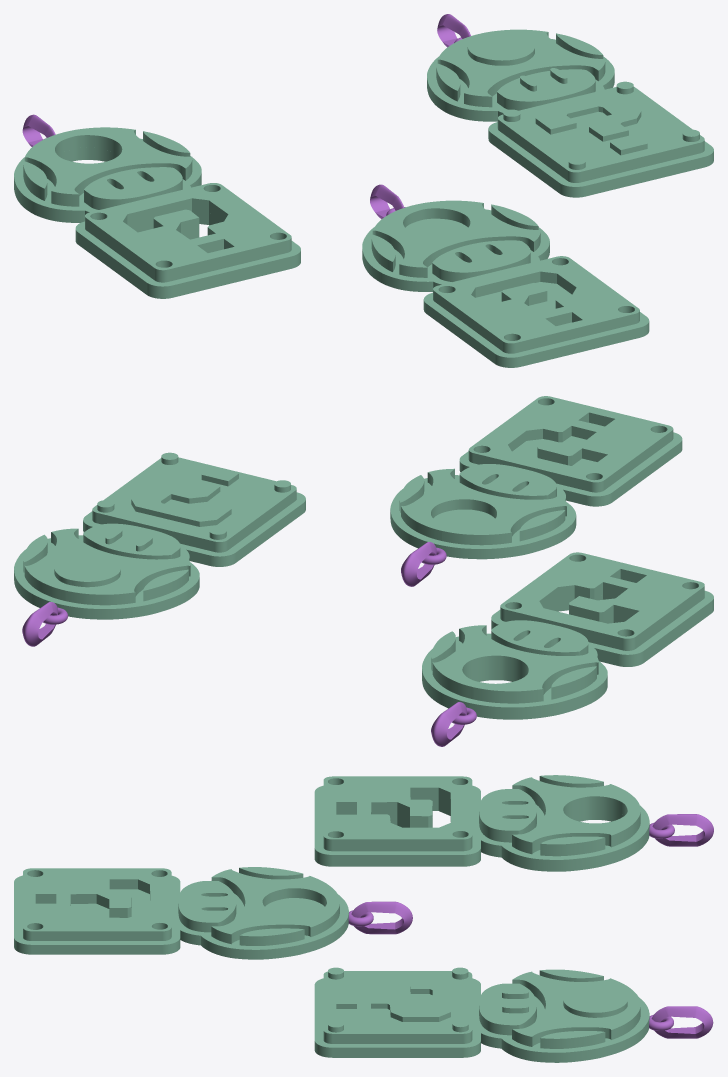
3 renders of one model, top to bottom at view 1: azimuth 30°, elevation 25°; view 2: azimuth 150°, elevation 25°; view 3: azimuth 270°, elevation 25°, orthographic. The views are drawn at different scales.
Parts seen in each view (by area): view 1: toad3pack.3dm; view 2: toad3pack.3dm; view 3: toad3pack.3dm.
Part boxes in pixels (left/top/right/bottom): toad3pack.3dm: left=14, top=14, right=713, bottom=367; toad3pack.3dm: left=14, top=396, right=713, bottom=746; toad3pack.3dm: left=14, top=775, right=713, bottom=1062.
Bounding box in the file's own units: 2.68 × 0.1816 × 2.96.
